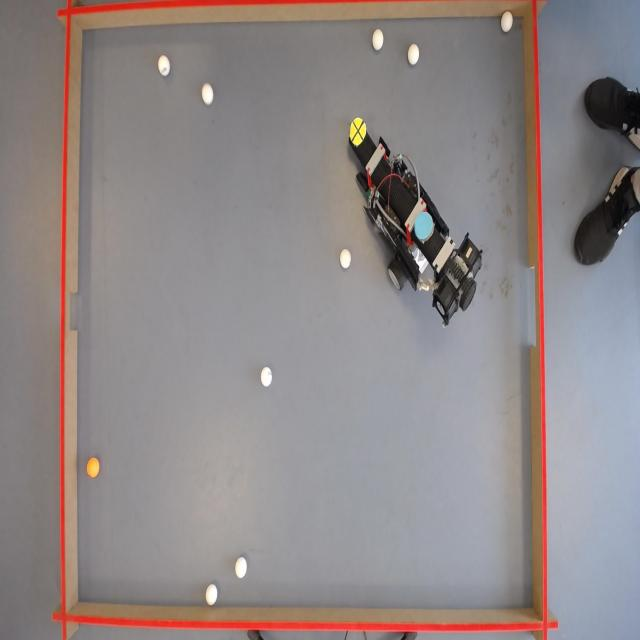orange: (88, 458, 103, 478)
robot: (344, 120, 490, 329)
robot-front: (350, 118, 368, 148)
robot-rear: (414, 209, 434, 243)
white: (205, 585, 220, 608), (372, 29, 386, 52), (235, 556, 248, 580), (408, 45, 422, 67), (202, 84, 216, 106), (500, 10, 513, 32), (340, 248, 353, 268), (159, 56, 172, 76), (262, 365, 274, 386)
